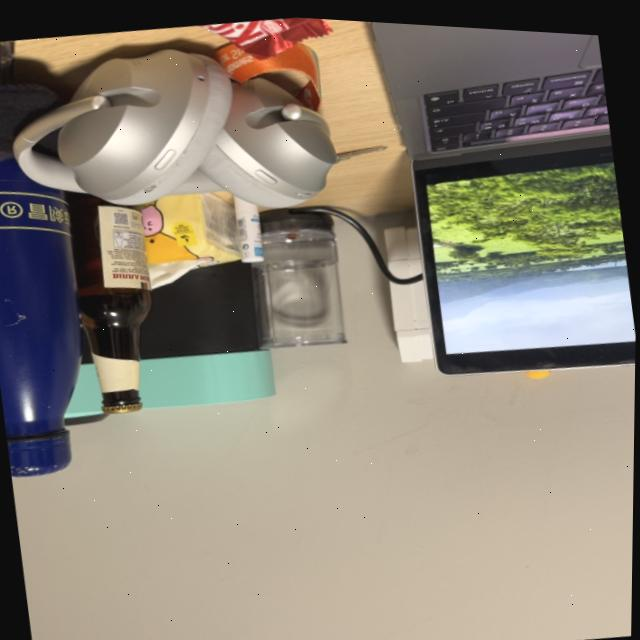beer: (53, 176, 179, 421)
chocolate: (147, 7, 332, 80)
